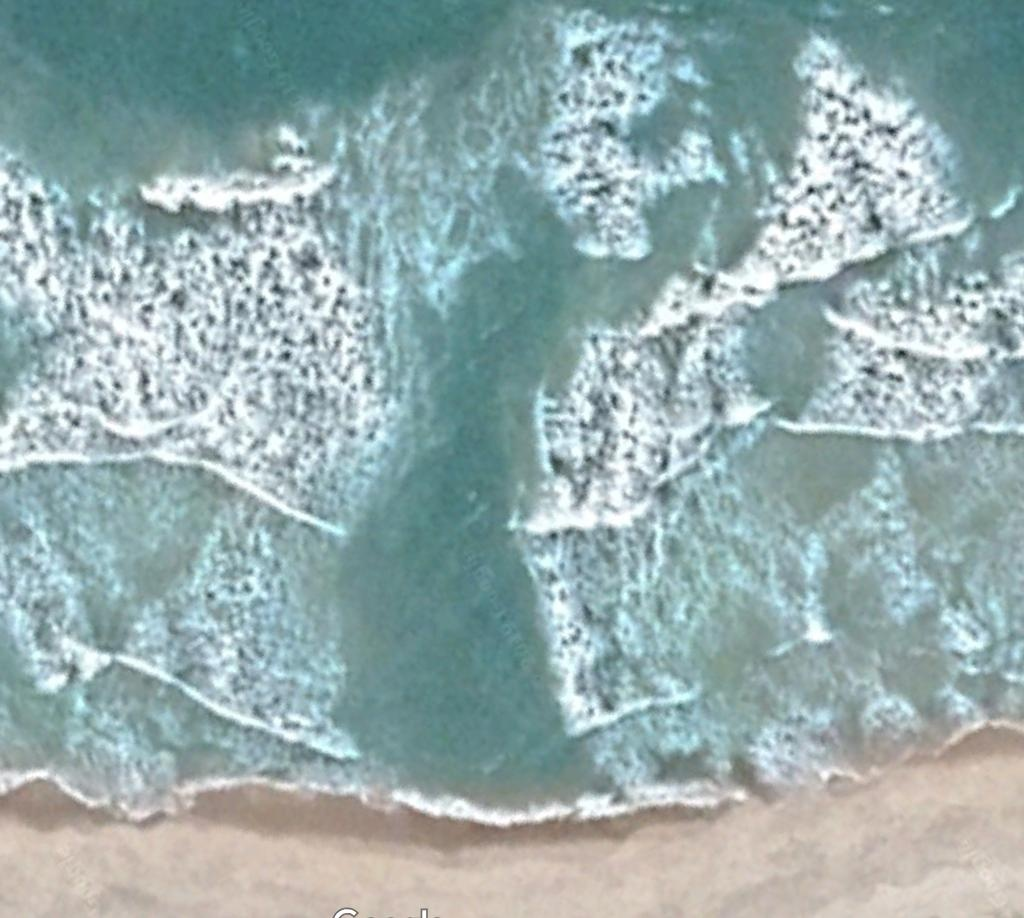rip_current: (298, 46, 632, 796)
